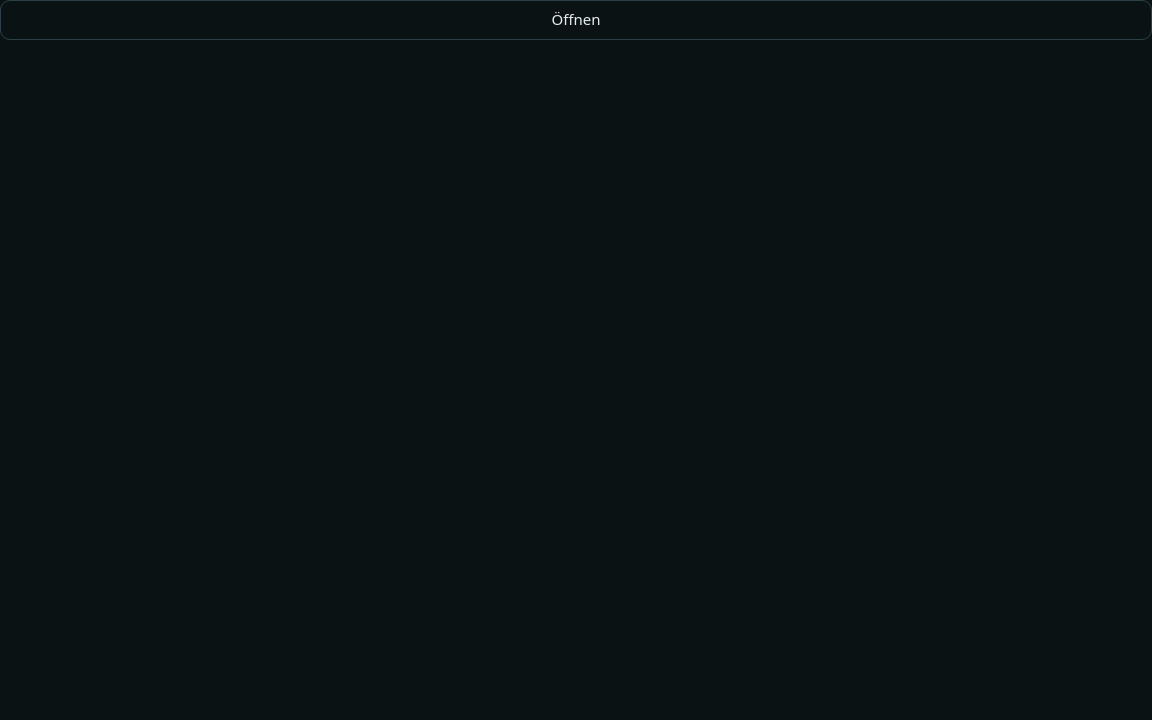
Test case: Dialog › bietet ohne dismissable kein Schließen von außen an
Click the button "Öffnen" at coordinates (576, 20), box [0,0,1151,40]
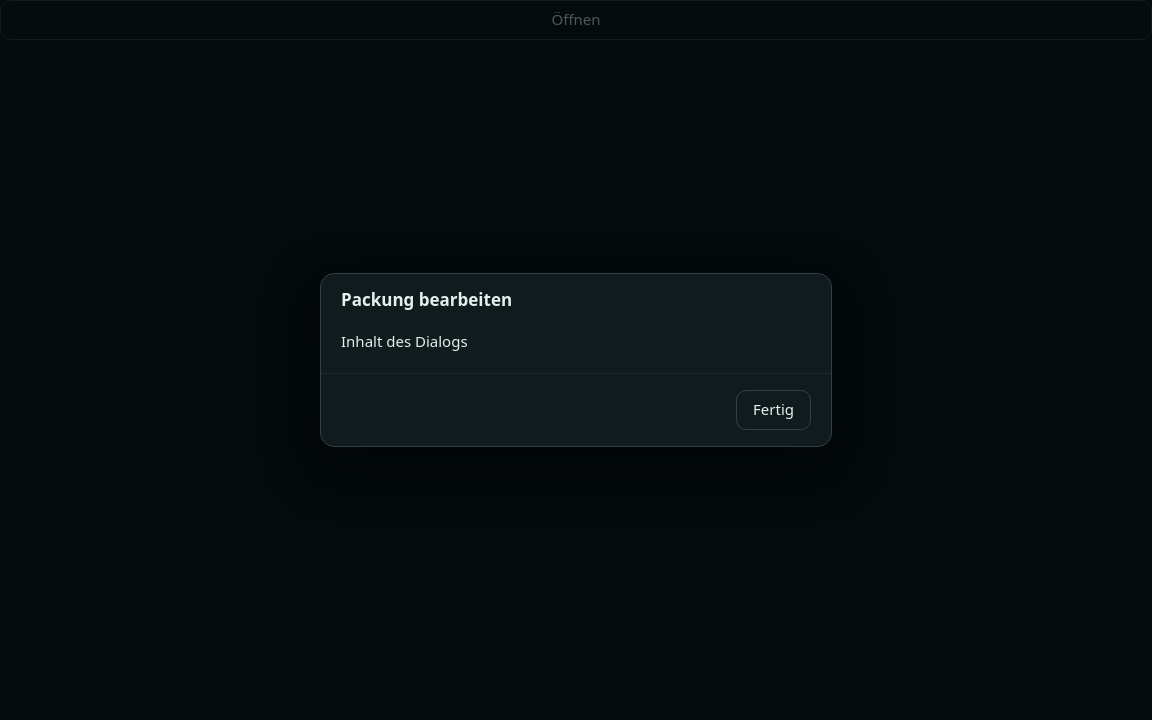
Expected: the text "Inhalt des Dialogs" is shown, [341,331,468,351]
